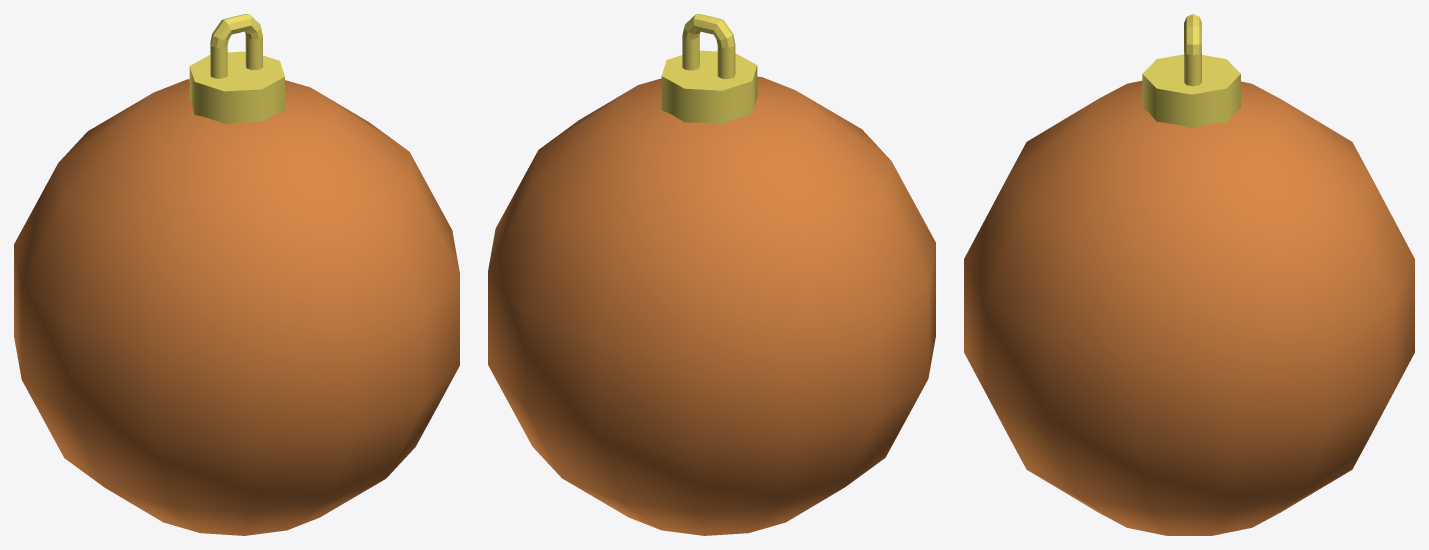
File: M_Ball_05.FBX
3 views of the same model, side by side, from view 1: azimuth 30°, elevation 25°; view 2: azimuth 150°, elevation 25°; view 3: azimuth 270°, elevation 25° (orthographic).
Parts seen in each view (by area): view 1: Sphere006; view 2: Sphere006; view 3: Sphere006.
Boxes of the visible parts, x1=… form: Sphere006: x1=14, y1=14, x2=459, y2=535; Sphere006: x1=488, y1=14, x2=935, y2=535; Sphere006: x1=964, y1=14, x2=1414, y2=535.
Size of the model in its own units: 21.83 by 27.2 by 22.39.
